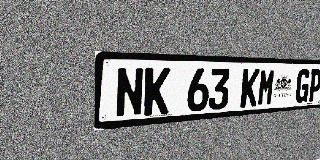3: (208, 68, 230, 110)
6: (186, 68, 210, 112)
G: (294, 69, 311, 103)
K: (143, 67, 171, 116), (240, 69, 260, 108)
M: (257, 69, 276, 106)
N: (115, 67, 144, 118)
P: (307, 69, 320, 102)
